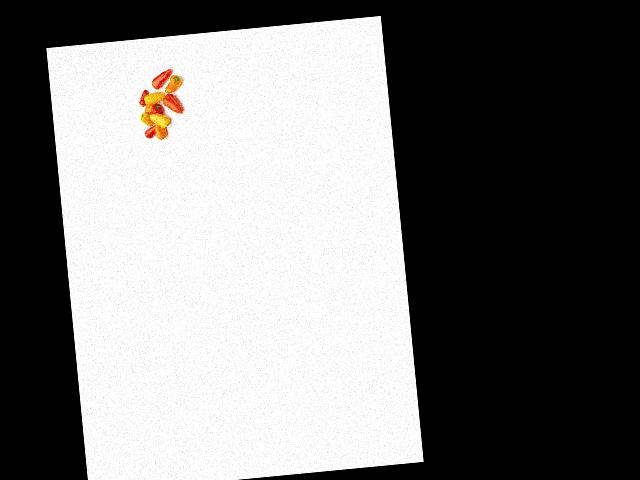bell_pepper: (137, 87, 148, 108)
